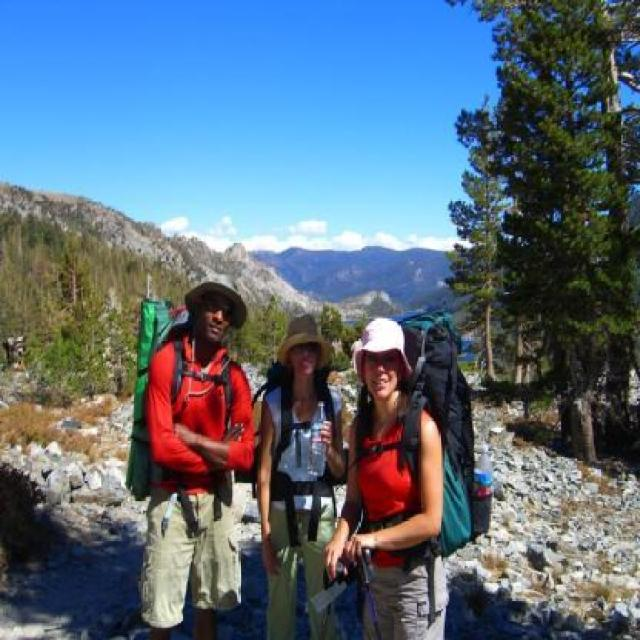backpack: (401, 302, 497, 564), (129, 293, 162, 502), (168, 331, 186, 403), (277, 381, 294, 457), (217, 351, 235, 418), (357, 406, 368, 469)
